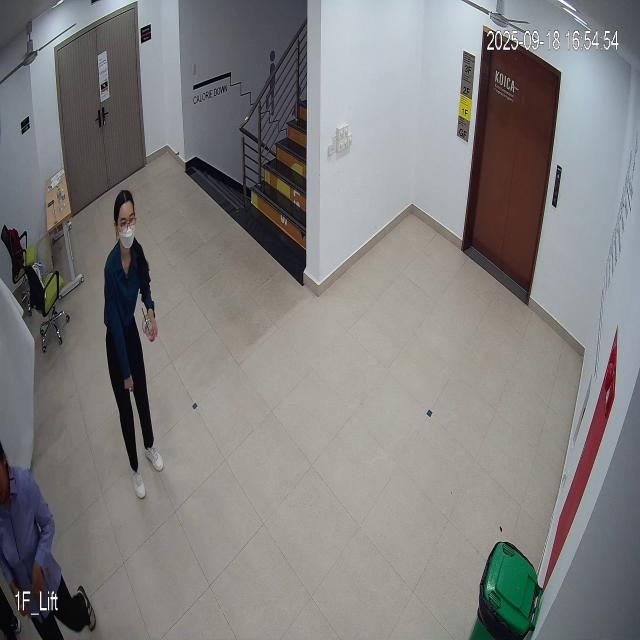face: (108, 188, 142, 258)
